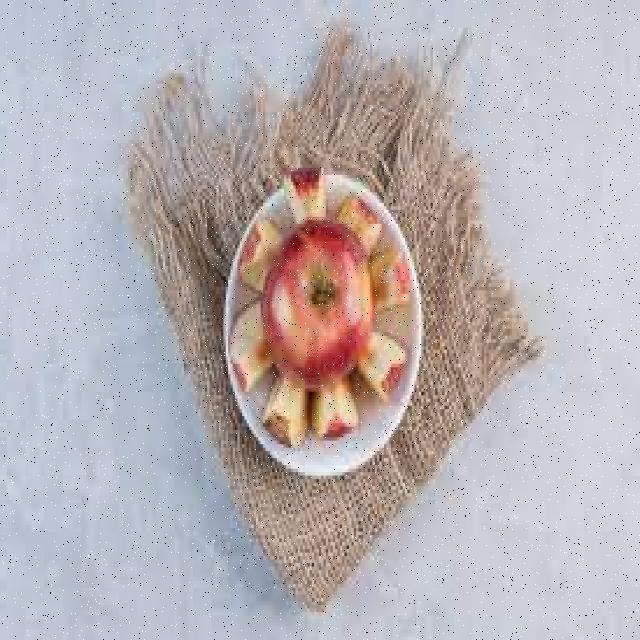Apple: (263, 224, 372, 387), (221, 296, 263, 392), (310, 389, 362, 460), (363, 324, 405, 400), (368, 246, 414, 315), (259, 384, 307, 444), (238, 224, 280, 286), (280, 172, 324, 225), (341, 193, 384, 239)
